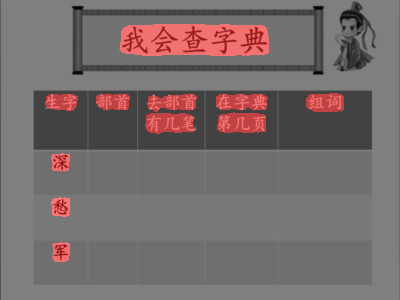text: (122, 25, 268, 53), (214, 93, 267, 132), (144, 94, 199, 131), (42, 93, 79, 113), (96, 93, 129, 110), (309, 94, 343, 110), (51, 197, 69, 214), (53, 153, 69, 171), (52, 243, 68, 259)
